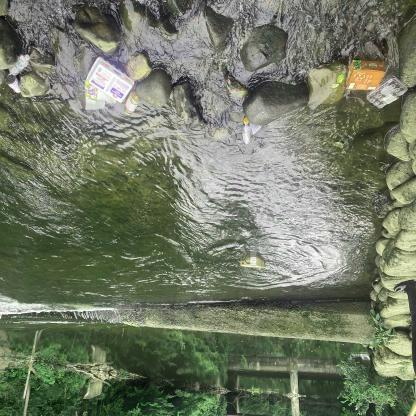Glass: (121, 92, 142, 118)
Metal: (3, 72, 28, 97)
Plastic: (80, 53, 139, 112), (364, 70, 410, 112), (6, 48, 37, 79), (243, 116, 260, 148)
